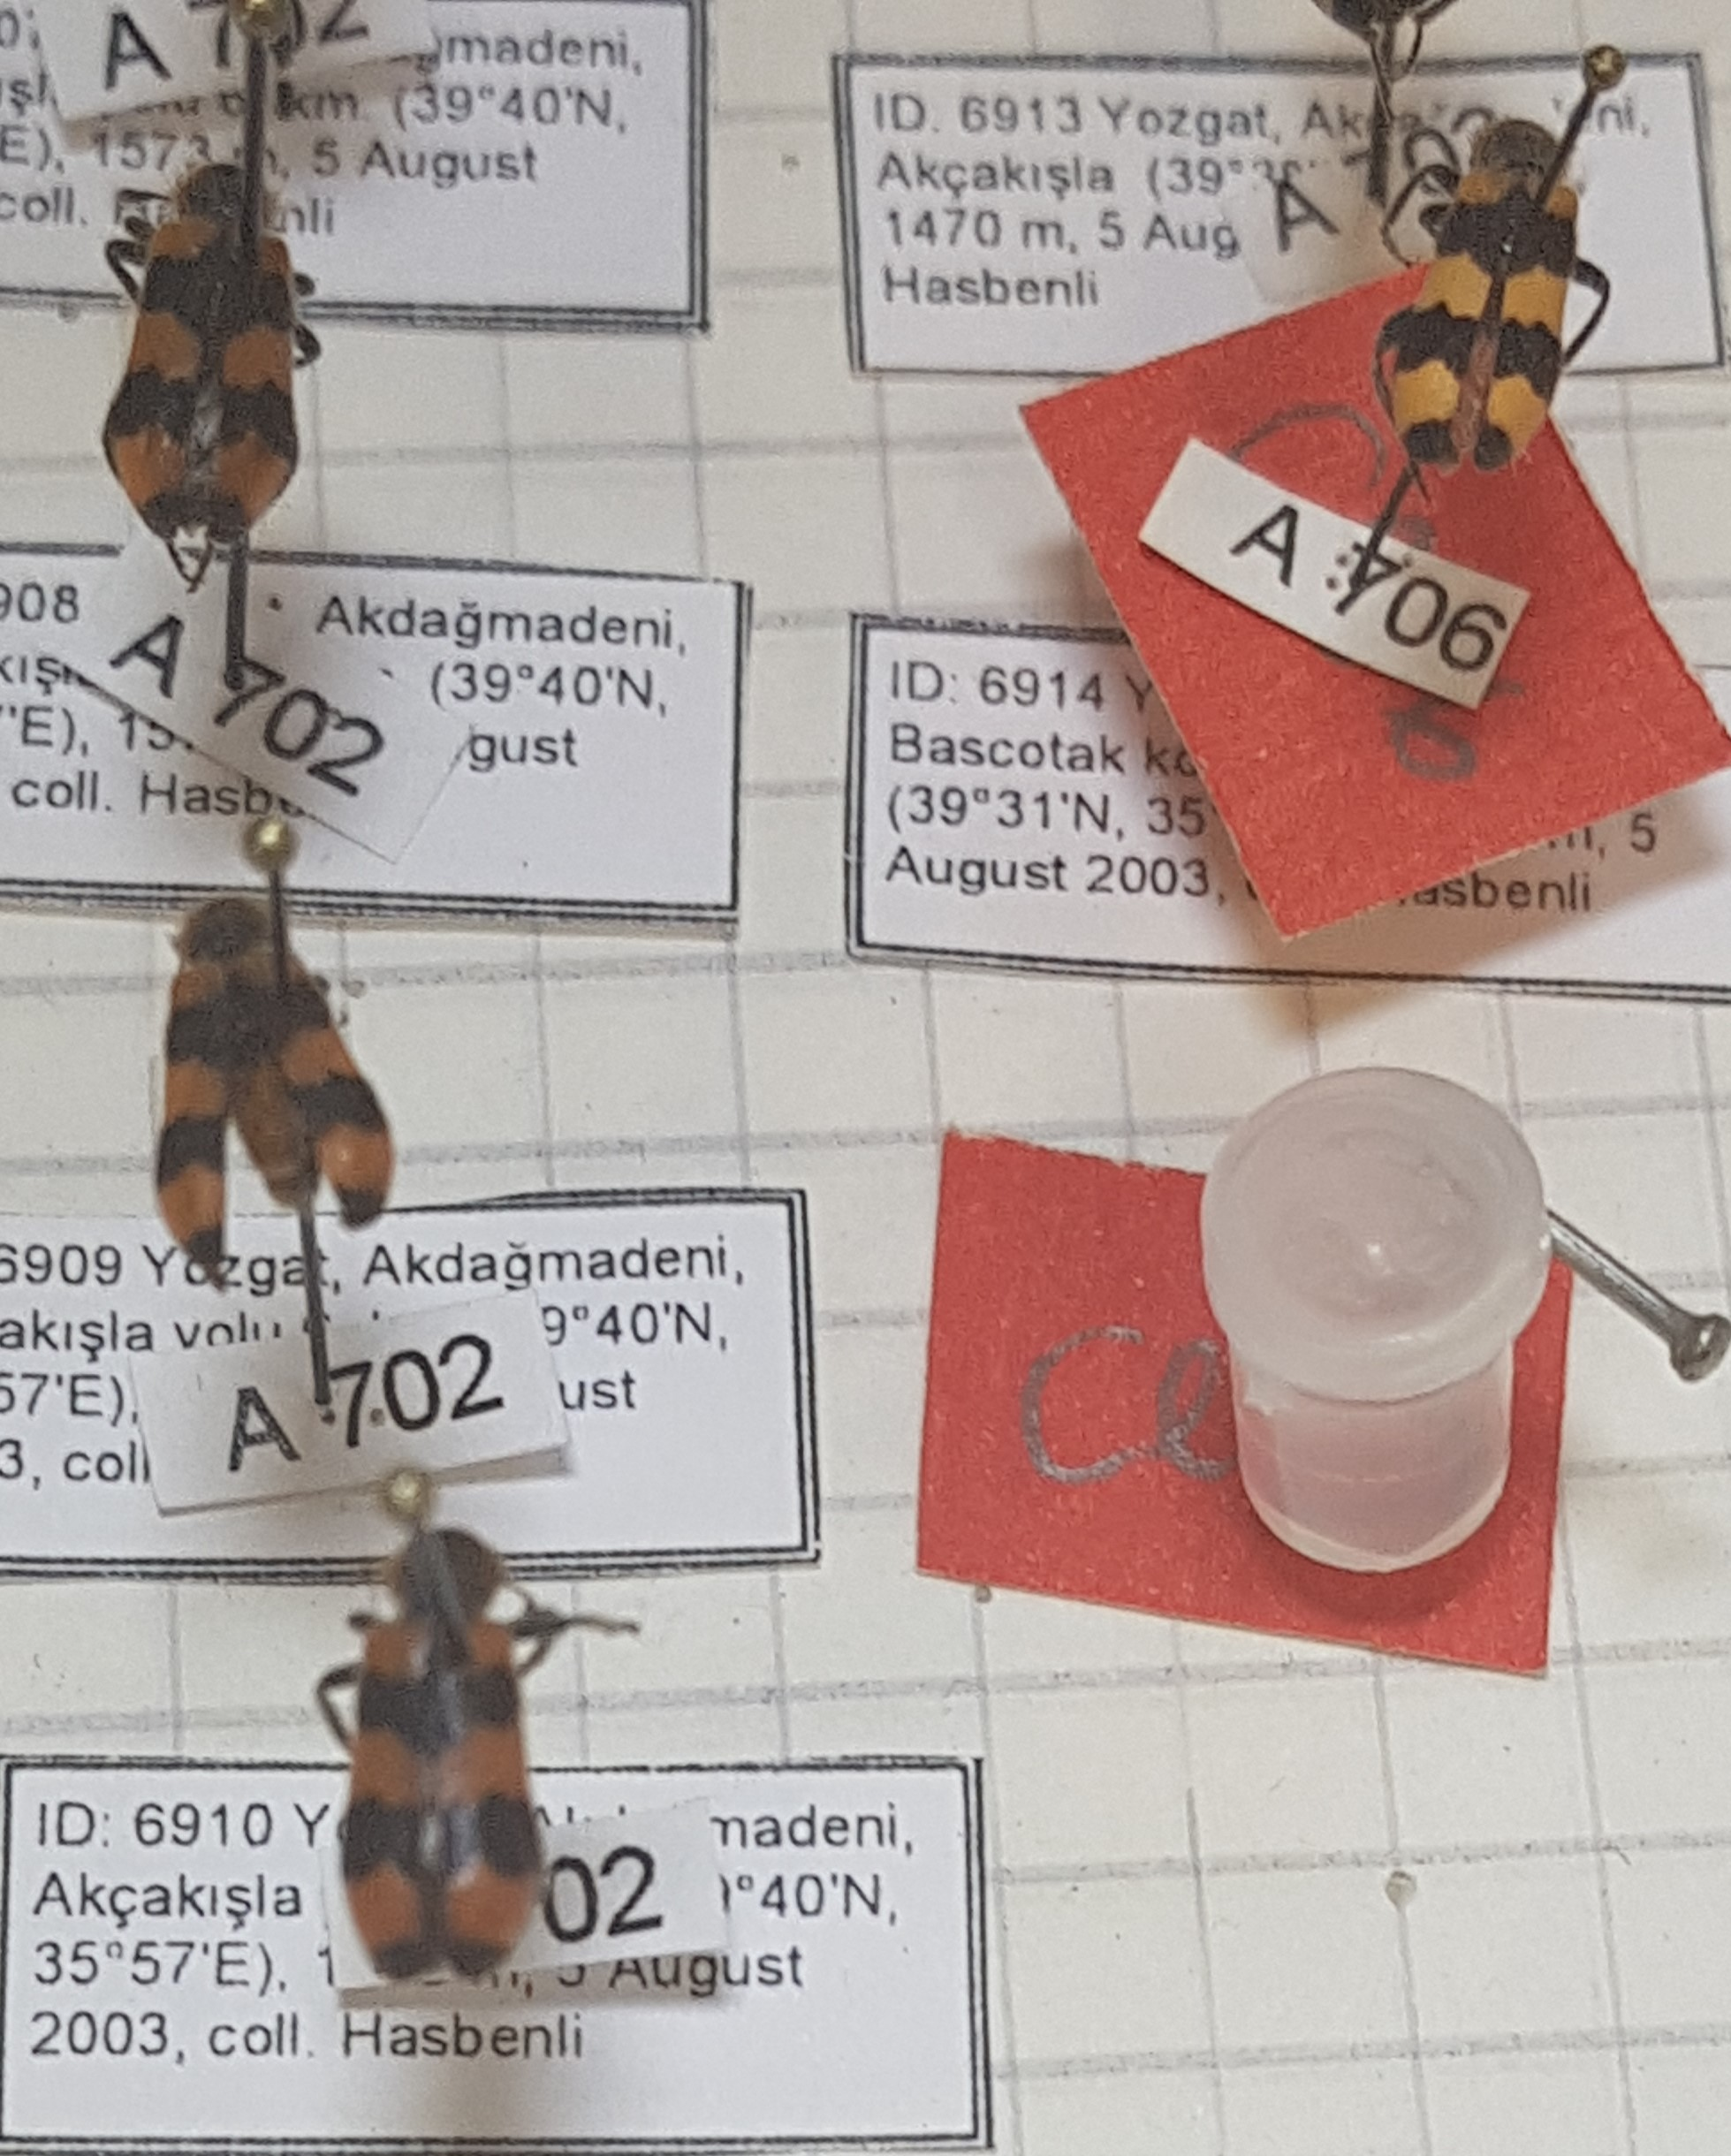trichodes_apiarius: (300, 1510, 636, 2025), (101, 869, 431, 1289), (85, 143, 337, 606), (1374, 88, 1616, 498)
